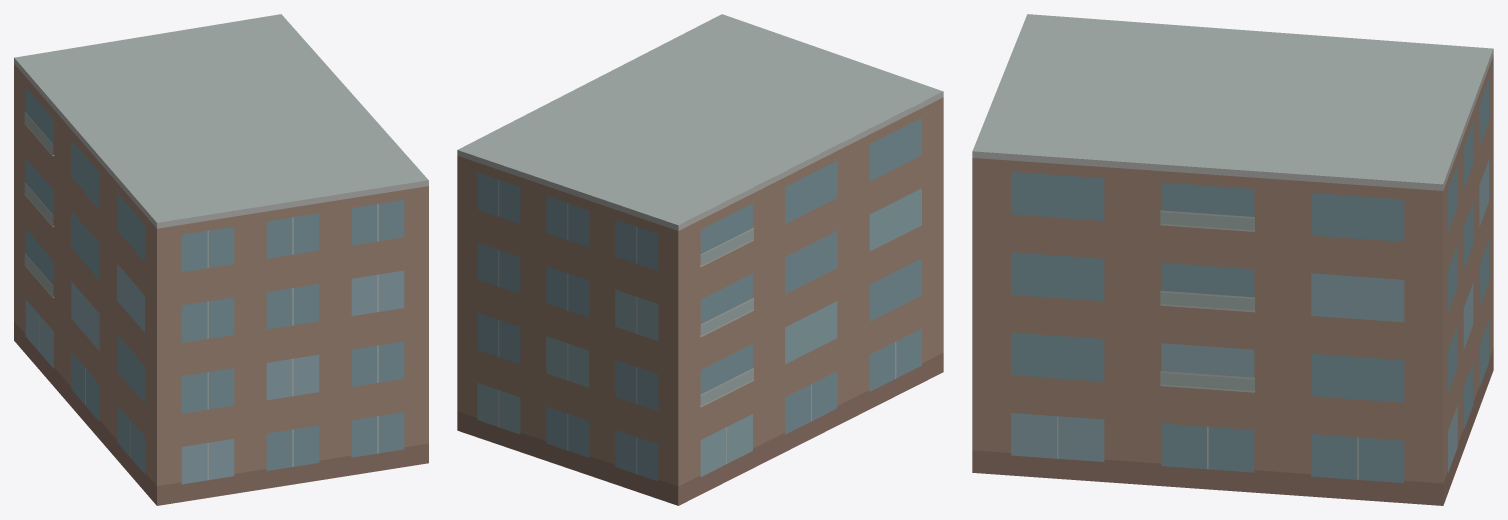
File: survey-upis-32745695.glb
The picture shows the model from 3 angles, left to right: view 1: azimuth 30°, elevation 25°; view 2: azimuth 150°, elevation 25°; view 3: azimuth 270°, elevation 25°; orthographic projection. The views are drawn at different scales.
Parts seen in each view (by area): view 1: survey-upis-32745695.tmp; view 2: survey-upis-32745695.tmp; view 3: survey-upis-32745695.tmp.
Part boxes in pixels (x1,y1,x2,y2): survey-upis-32745695.tmp: (14, 14, 428, 505); survey-upis-32745695.tmp: (457, 14, 943, 505); survey-upis-32745695.tmp: (972, 14, 1493, 505).
Bounding box in the file's own units: 13.65 × 12 × 17.64.
